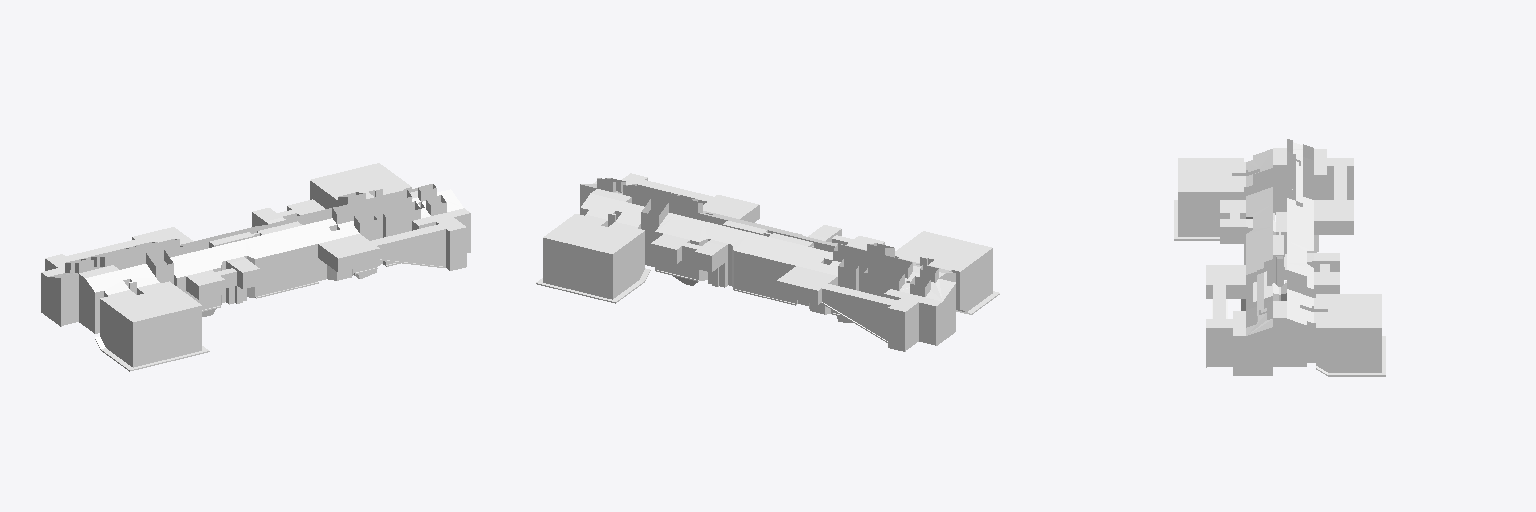
The model's file is longest.obj.
The picture shows the model from 3 angles: view 1: azimuth 30°, elevation 25°; view 2: azimuth 150°, elevation 25°; view 3: azimuth 270°, elevation 25°; orthographic projection.
Parts seen in each view (by area): view 1: -000; view 2: -000; view 3: -000.
Part boxes in pixels (bbox=[...]): -000: bbox=[41, 163, 470, 371]; -000: bbox=[536, 173, 999, 351]; -000: bbox=[1174, 139, 1385, 376].
Bounding box in the file's own units: 83.82 × 13.85 × 40.18.